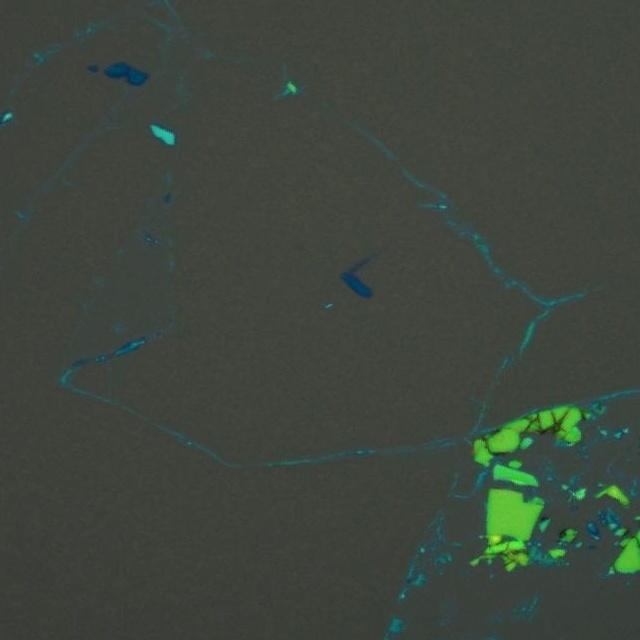monolayer-eWW4: (346, 250, 379, 278)
